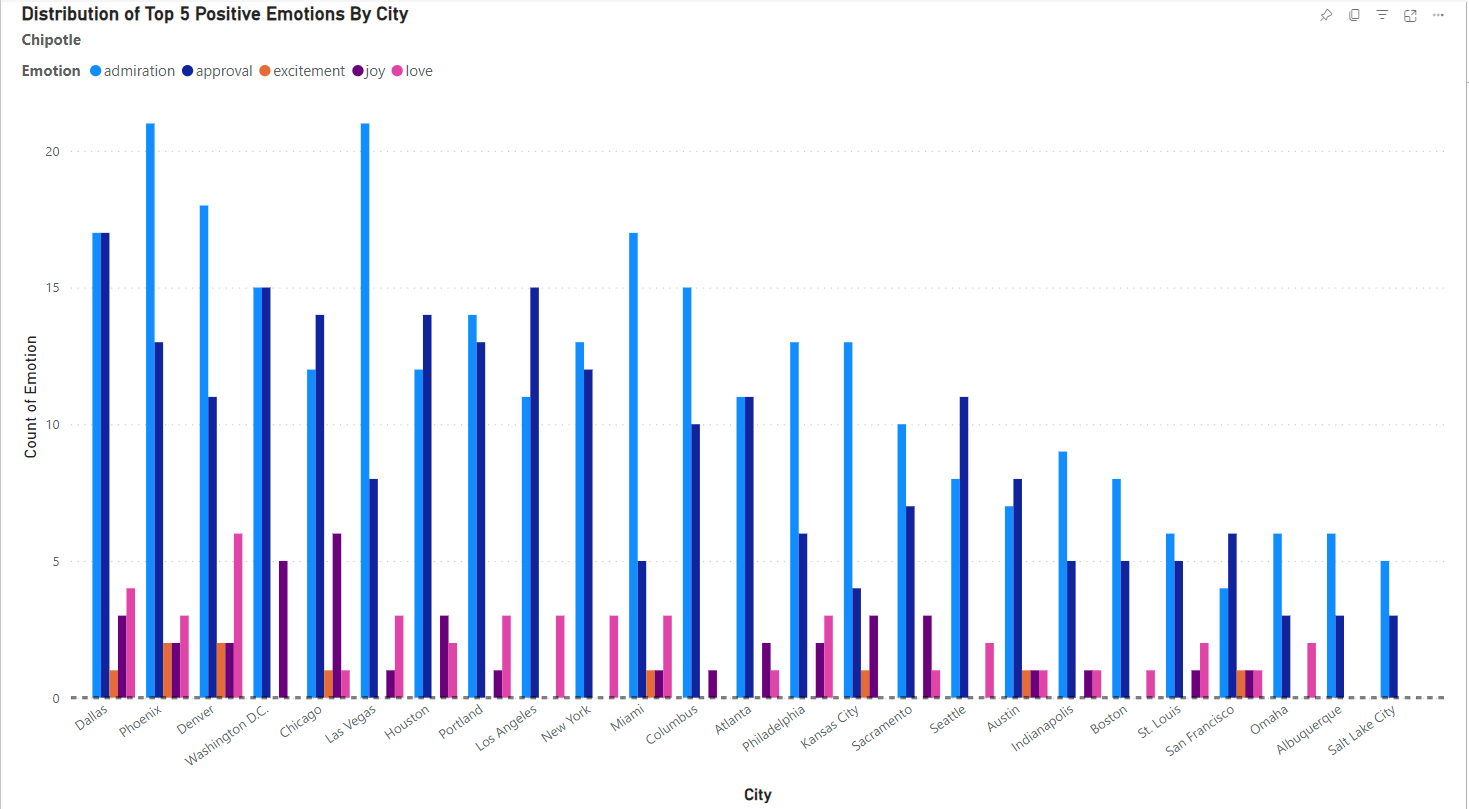

What the dashboard file says about the page in this screenshot:
{"tool":"powerbi","page":{"name":"Top 5 Positive Emotions By City","canvas":[1280,720],"ordinal":1},"visuals":[{"type":"clusteredColumnChart","title":"Distribution of Top 5 Positive Emotions By City","fields":{"Category":["Sentiment_Analysis.Store_City"],"Series":["Sentiment_Analysis.Emotion"],"Y":["CountNonNull(Sentiment_Analysis.Emotion)"]},"box":[0,0,1280,720],"z":0}]}

Visuals, with their boxes on the page's 1280x720 design canvas (x1, y1, x2, y2). These are canvas units, not pixel positions in the 1469x809 screenshot, which may show the page scaled, cropped or inside an application window:
"Distribution of Top 5 Positive Emotions By City" clusteredColumnChart: pyautogui.locateOnScreen(0, 0, 1280, 720)
